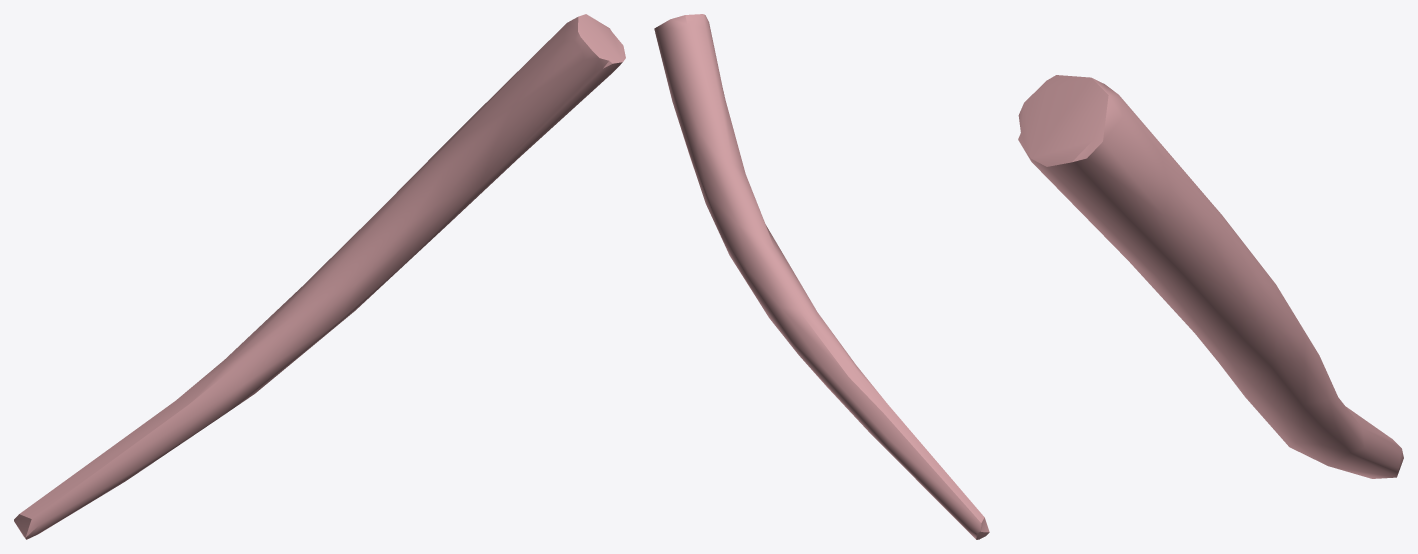
Rendered from fma68233_fj6516.glb.
3 views of the same model, side by side, from view 1: azimuth 30°, elevation 25°; view 2: azimuth 150°, elevation 25°; view 3: azimuth 270°, elevation 25° (orthographic). The views are drawn at different scales.
Parts seen in each view (by area): view 1: FMA68233_FJ6516; view 2: FMA68233_FJ6516; view 3: FMA68233_FJ6516.
Part boxes in pixels (x1,y1,x2,y2): FMA68233_FJ6516: [14, 14, 625, 539]; FMA68233_FJ6516: [654, 14, 989, 539]; FMA68233_FJ6516: [1018, 75, 1403, 478].
Bounding box in the file's own units: 0.0419 × 0.0375 × 0.0173.
